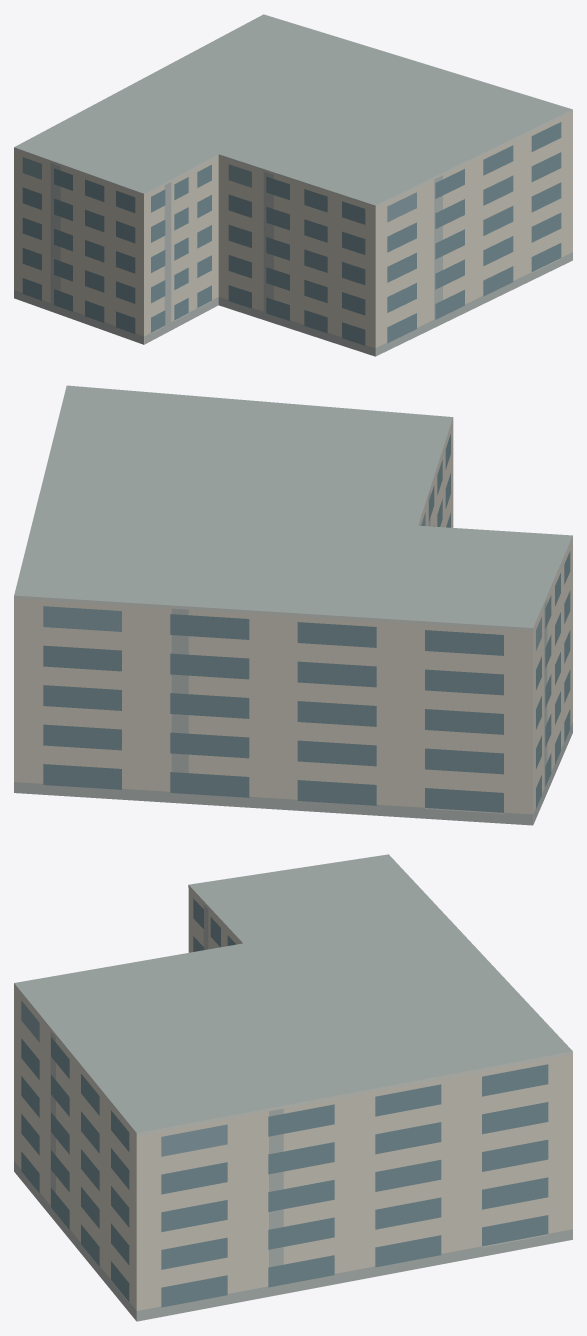
File: residential-4204fc83-8056-4a7e-b07e-8869db99e7f2.glb
3 views of the same model, one above another, from view 1: azimuth 30°, elevation 25°; view 2: azimuth 150°, elevation 25°; view 3: azimuth 270°, elevation 25° (orthographic). The views are drawn at different scales.
Visible parts, largest first — view 1: residential-4204fc83-8056-4a7e-b07e-8869db99e7f2.tmp; view 2: residential-4204fc83-8056-4a7e-b07e-8869db99e7f2.tmp; view 3: residential-4204fc83-8056-4a7e-b07e-8869db99e7f2.tmp.
Part boxes in pixels (x1,y1,x2,y2): residential-4204fc83-8056-4a7e-b07e-8869db99e7f2.tmp: (14,14,572,356); residential-4204fc83-8056-4a7e-b07e-8869db99e7f2.tmp: (14,385,572,825); residential-4204fc83-8056-4a7e-b07e-8869db99e7f2.tmp: (14,854,572,1321).
Size of the model in its own units: 48.39 by 15.25 by 40.99.
